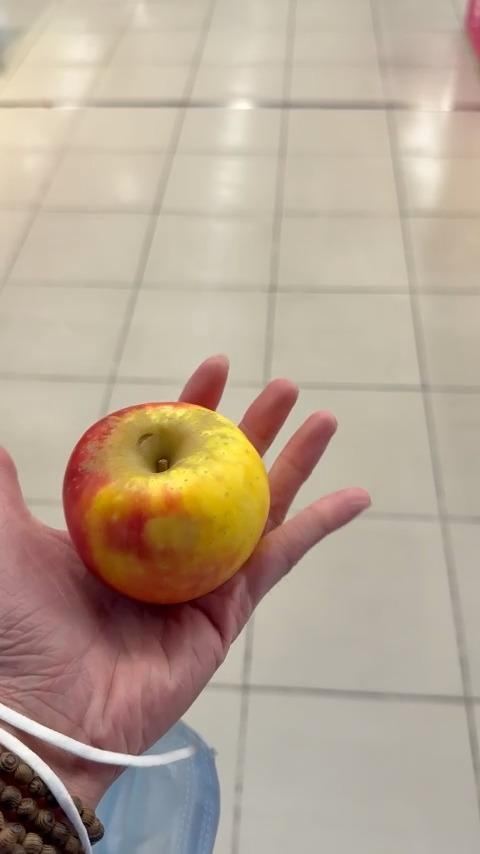apple: (65, 399, 271, 607)
